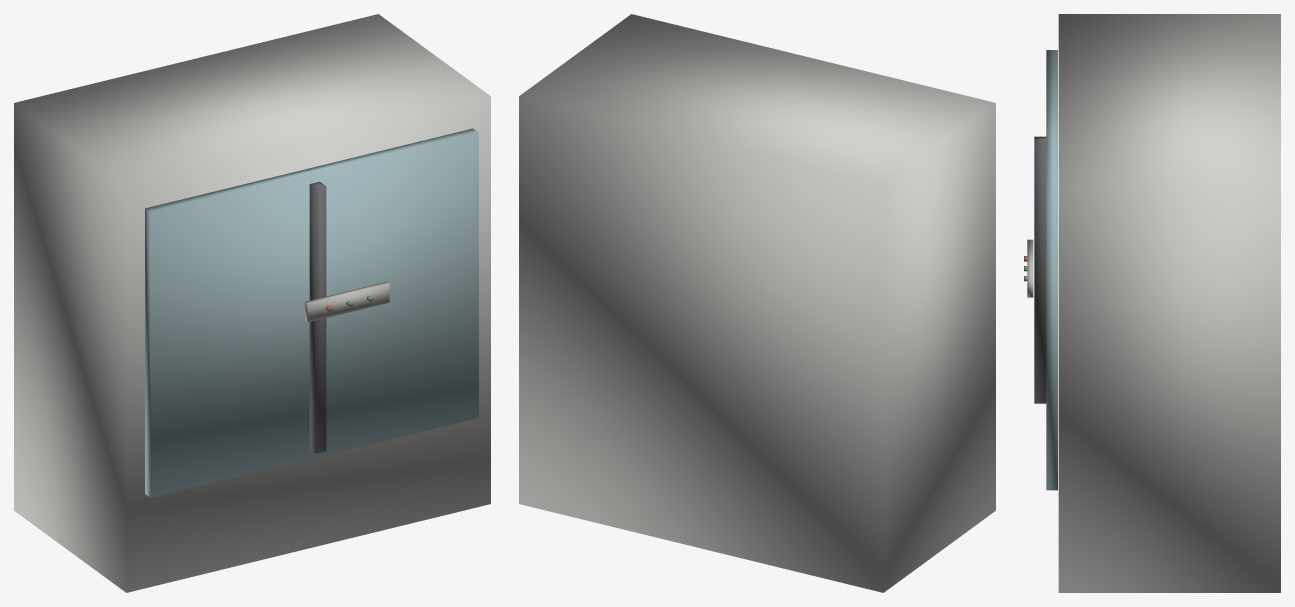
File: freezer_chest__squat.glb
3 views of the same model, side by side, from view 1: azimuth 30°, elevation 25°; view 2: azimuth 150°, elevation 25°; view 3: azimuth 270°, elevation 25° (orthographic).
Visible parts, largest first — view 1: world; view 2: world; view 3: world.
Part boxes in pixels (<box>): world: <box>14,14,490,592</box>; world: <box>519,14,995,592</box>; world: <box>1024,14,1280,592</box>.
Size of the model in its own units: 1.38 by 1.47 by 0.8489.
